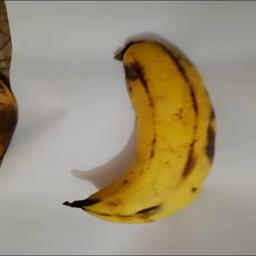Banana Semifresh: (59, 36, 221, 227)
